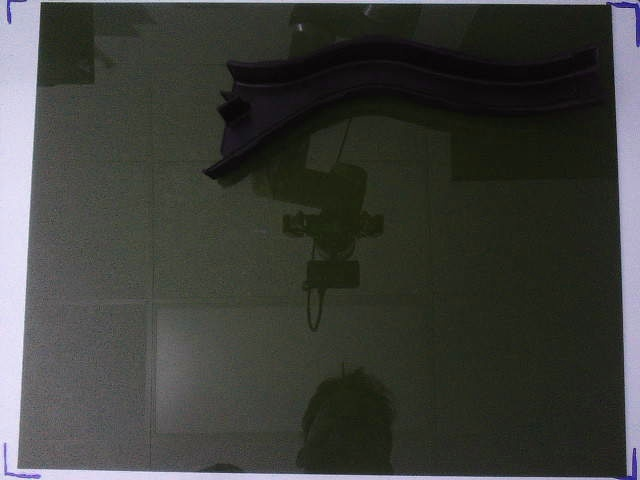887_B-Under: (203, 40, 604, 177)
